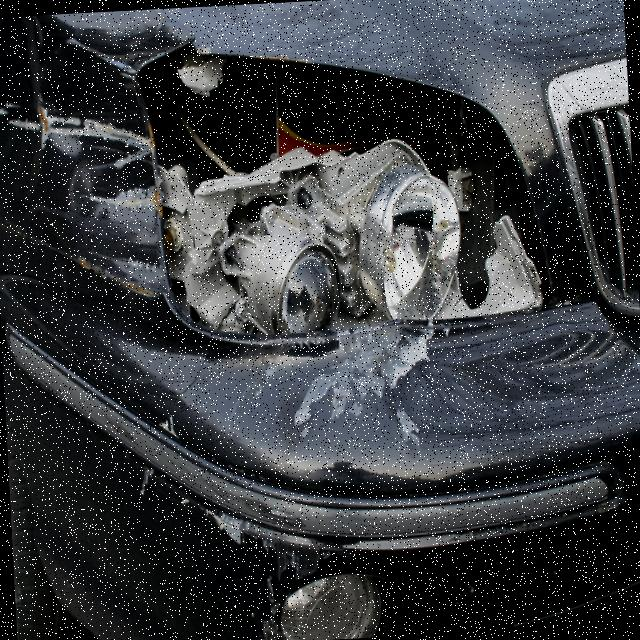Head Light: (132, 60, 534, 368)
